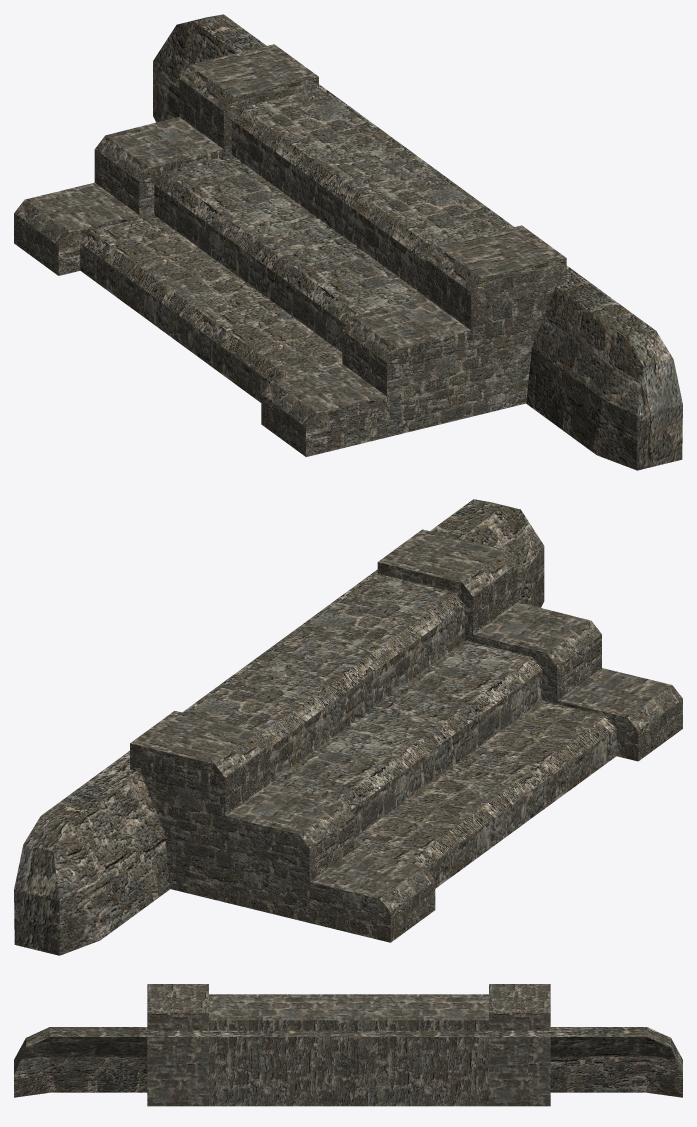
Rendered from CK Outside steps.dae.
3 renders of one model, top to bottom at view 1: azimuth 30°, elevation 25°; view 2: azimuth 150°, elevation 25°; view 3: azimuth 270°, elevation 25°, orthographic. The views are drawn at different scales.
Parts seen in each view (by area): view 1: Plane; view 2: Plane; view 3: Plane.
Part boxes in pixels (left/top/right/bottom): Plane: left=14, top=14, right=682, bottom=470; Plane: left=14, top=499, right=682, bottom=955; Plane: left=14, top=984, right=682, bottom=1106.
Bounding box in the file's own units: 1.87 × 5.6 × 0.8661.
Materials: 1 (1 with a texture image).
